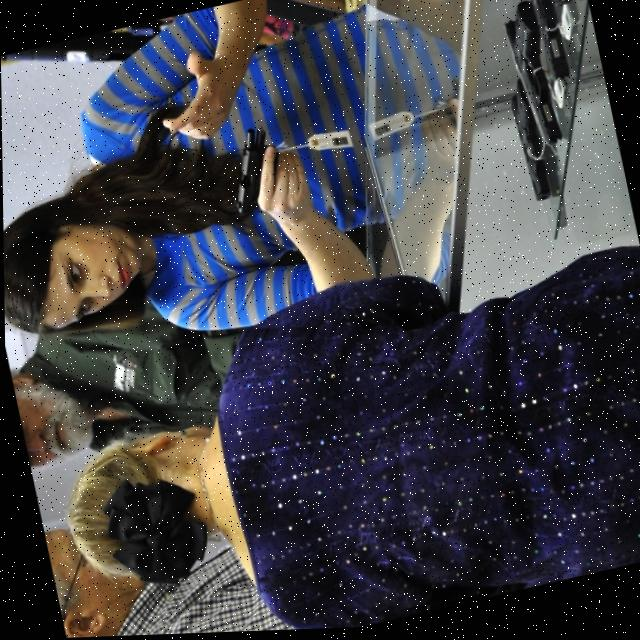pistol: (495, 0, 563, 156), (219, 125, 287, 219), (504, 78, 552, 208), (512, 0, 569, 91), (527, 0, 573, 15)
